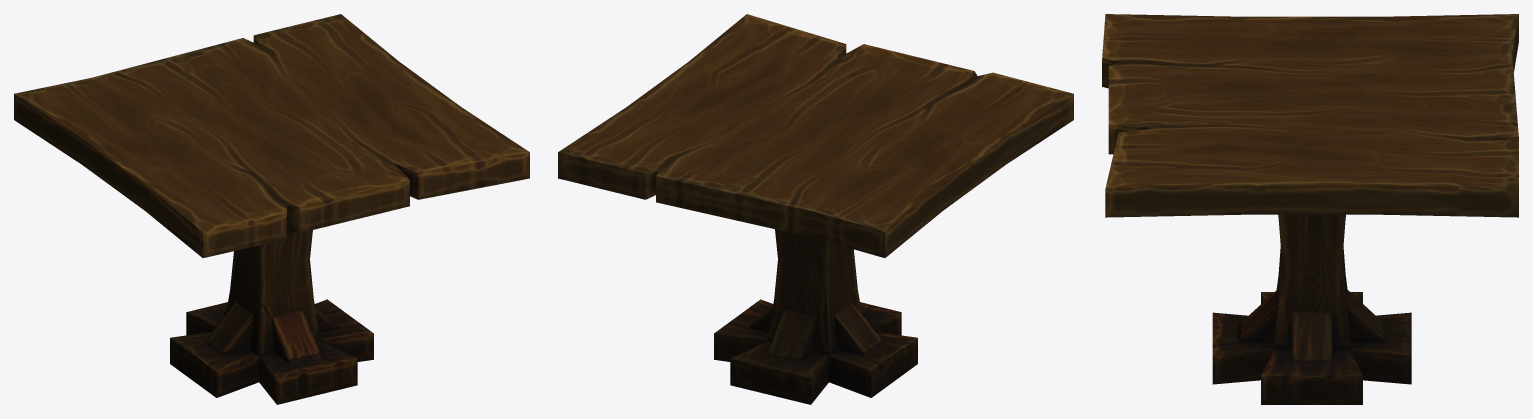
File: Stylized_Low-poly_Wood_Table.glb
3 renders of one model, left to right at view 1: azimuth 30°, elevation 25°; view 2: azimuth 150°, elevation 25°; view 3: azimuth 270°, elevation 25°, orthographic. The views are drawn at different scales.
Parts seen in each view (by area): view 1: defaultMaterial (×6); view 2: defaultMaterial (×6); view 3: defaultMaterial (×6).
Boxes of the visible parts, x1=… form: defaultMaterial (×6): x1=14, y1=14, x2=529, y2=404; defaultMaterial (×6): x1=558, y1=14, x2=1073, y2=404; defaultMaterial (×6): x1=1102, y1=14, x2=1518, y2=404.
Size of the model in its own units: 260 by 182 by 262.
Materials: 1 (1 with a texture image).
